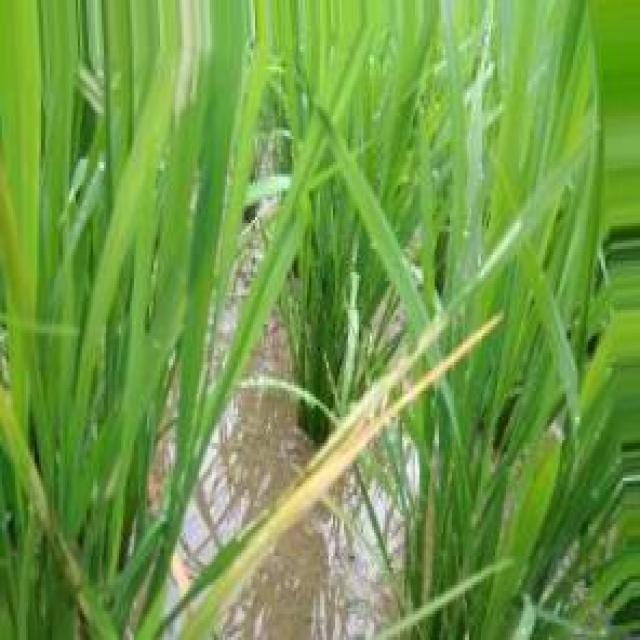Rice Tungro: (182, 316, 502, 637)
